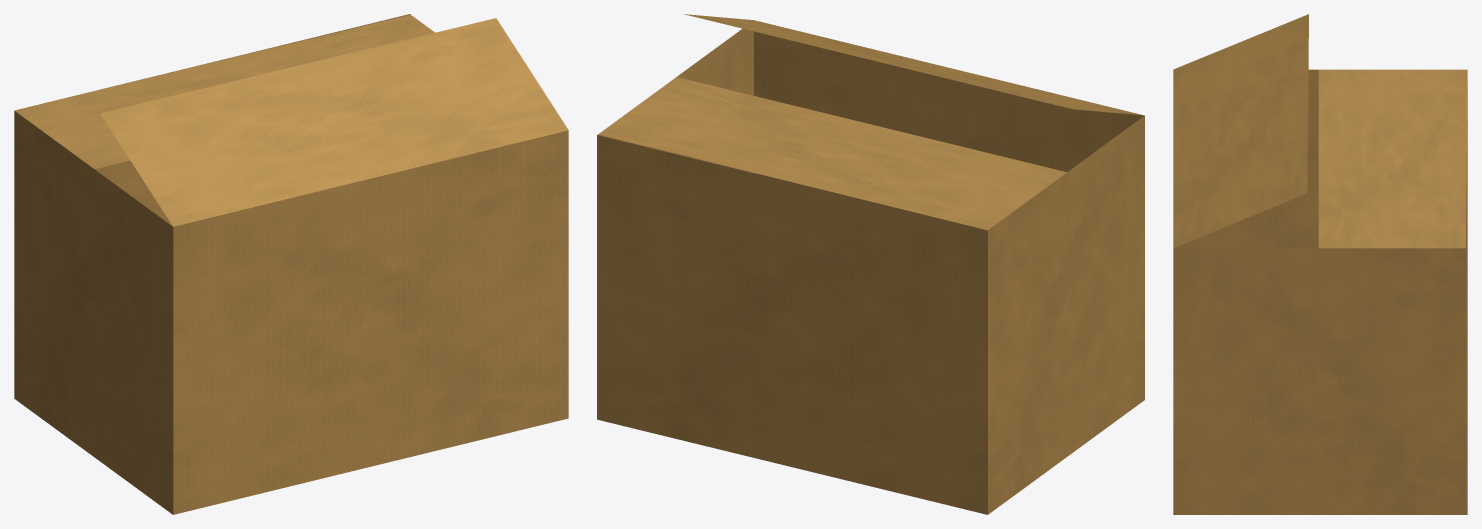
The model's file is kardusbox.glb.
3 renders of one model, left to right at view 1: azimuth 30°, elevation 25°; view 2: azimuth 150°, elevation 25°; view 3: azimuth 270°, elevation 25°, orthographic. The views are drawn at different scales.
Parts seen in each view (by area): view 1: Cube, Plane, Plane.001; view 2: Cube, Plane.001, Plane; view 3: Cube, Plane.001, Plane.
Part boxes in pixels (x1,y1,x2,y2): Cube: [14, 14, 568, 514]; Plane: [100, 18, 568, 226]; Plane.001: [14, 14, 434, 169]; Cube: [597, 28, 1144, 514]; Plane.001: [598, 77, 1066, 230]; Plane: [683, 14, 1142, 115]; Cube: [1173, 69, 1467, 514]; Plane.001: [1318, 69, 1467, 248]; Plane: [1173, 14, 1308, 247].
Size of the model in its own units: 3.09 by 2.6 by 2.15.
1 material, 1 textured.
